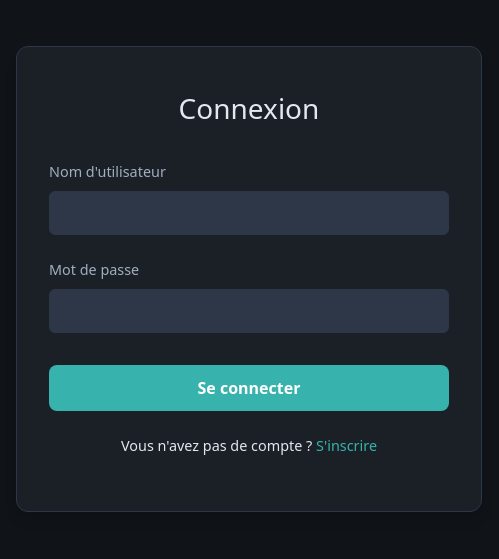
Test: LoginPage › devrait afficher un message d'erreur si le login échoue
Type "baduser" into the field labelled "Nom d'utilisateur" at coordinates (249, 213), box [49, 191, 449, 235]
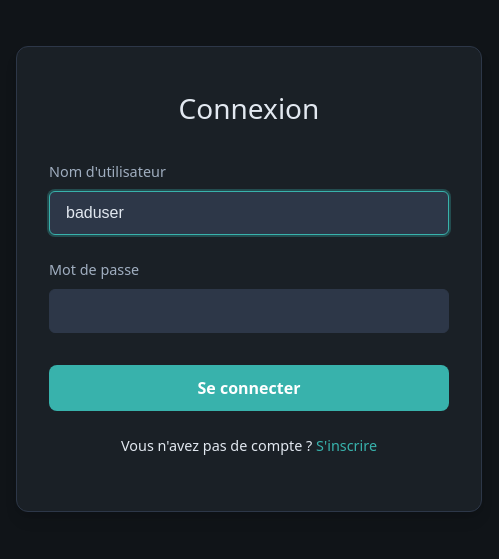
Type "badpass" into the password field labelled "Mot de passe" at coordinates (249, 311), box [49, 289, 449, 333]
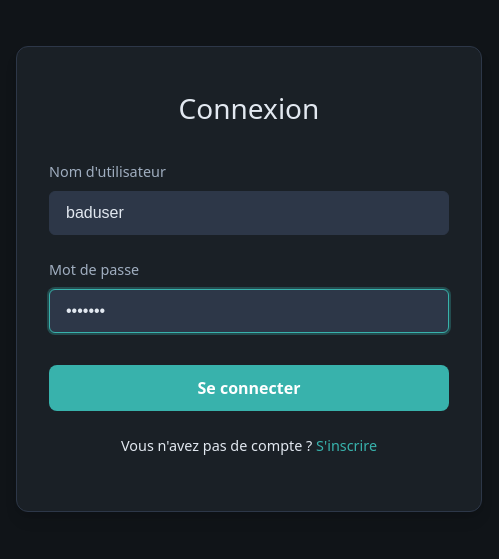
Click the button "Se connecter" at coordinates (249, 388), box [49, 365, 449, 411]
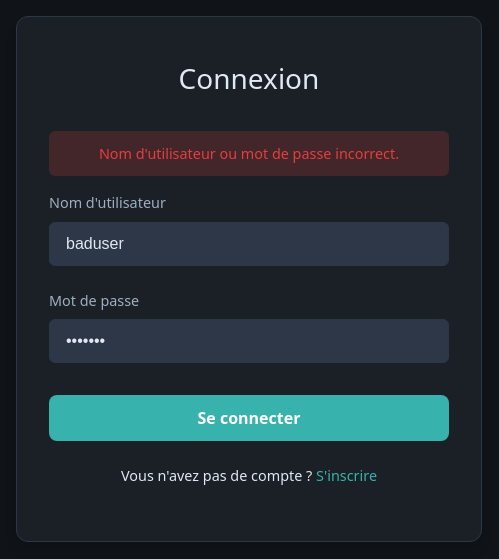
Result: the text "Nom d'utilisateur ou mot de passe incorrect." is shown at [49, 131, 449, 176]
